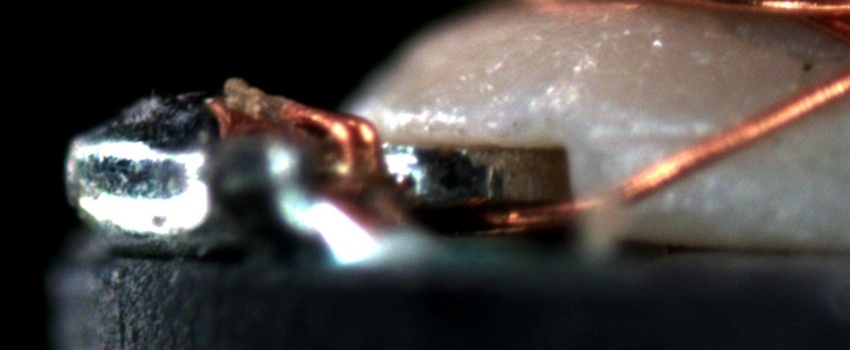DL: (588, 107, 742, 171)
TE: (271, 97, 385, 193)
